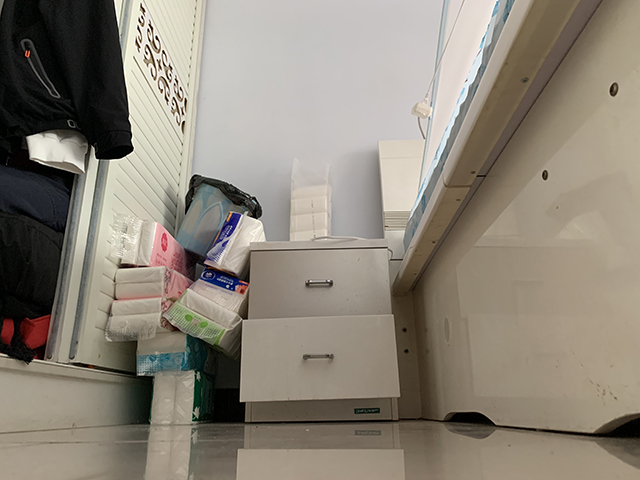bed: (374, 3, 640, 439)
cabinet: (1, 1, 209, 430), (238, 237, 402, 425)
